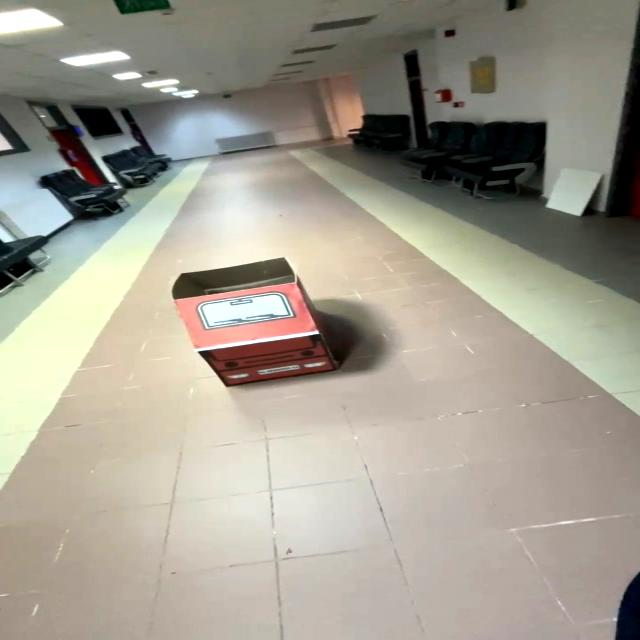red_car: (155, 250, 361, 400)
